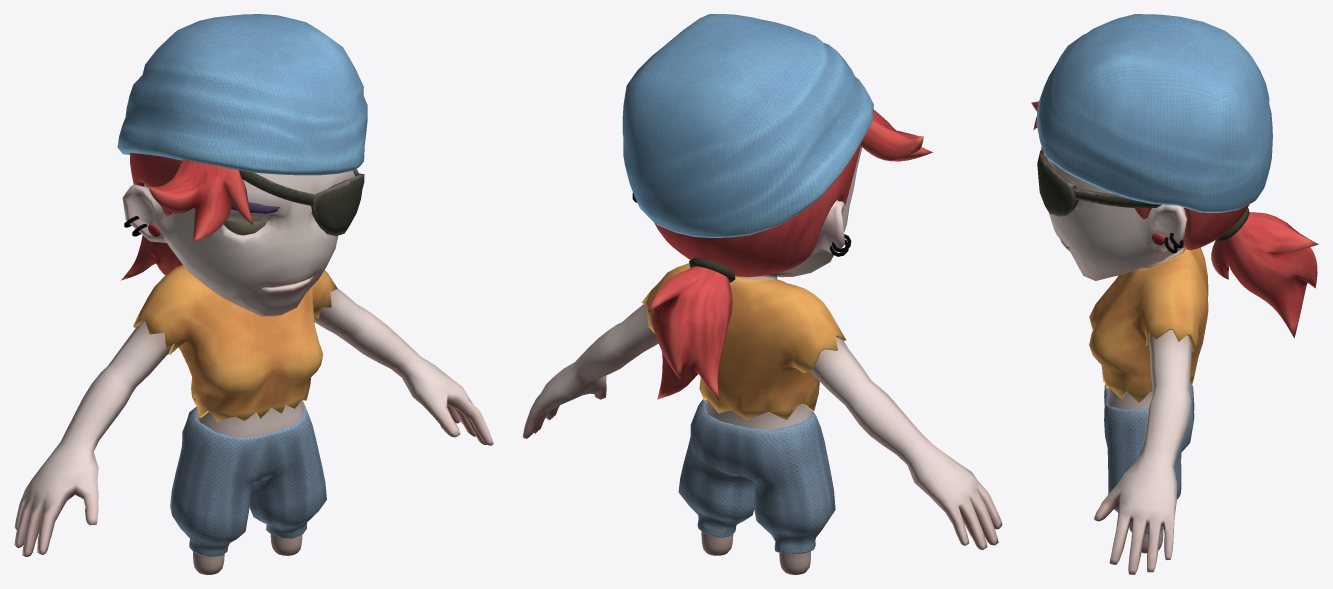
The model's file is CabinCrew4.fbx.
3 renders of one model, left to right at view 1: azimuth 30°, elevation 25°; view 2: azimuth 150°, elevation 25°; view 3: azimuth 270°, elevation 25°, orthographic. The views are drawn at different scales.
Parts seen in each view (by area): view 1: CabinCrew4; view 2: CabinCrew4; view 3: CabinCrew4.
Boxes of the visible parts, x1=… form: CabinCrew4: x1=14, y1=14, x2=493, y2=574; CabinCrew4: x1=522, y1=14, x2=1002, y2=574; CabinCrew4: x1=1031, y1=14, x2=1318, y2=574.
Bounding box in the file's own units: 111 × 120 × 62.26.
Materials: 1 (1 with a texture image).
